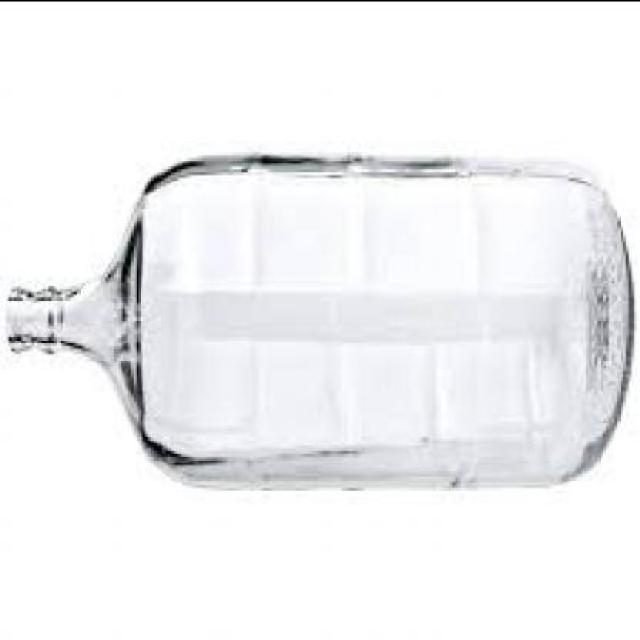GLASS: (6, 157, 626, 492)
